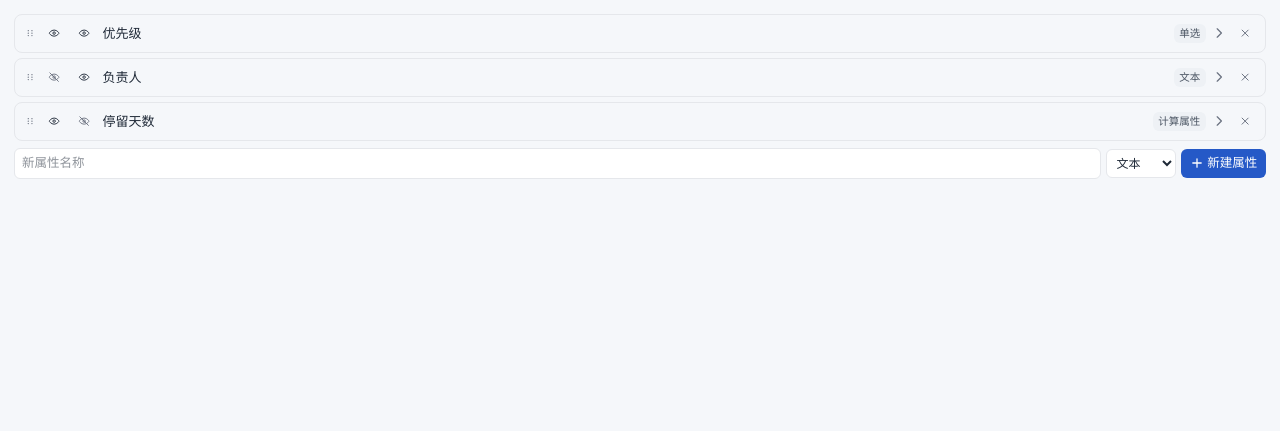
Test: AttributeManager › 展开计算属性时类型锁定，不可改类型
Click the text "停留天数" at [128, 121], box [102,113,154,129]
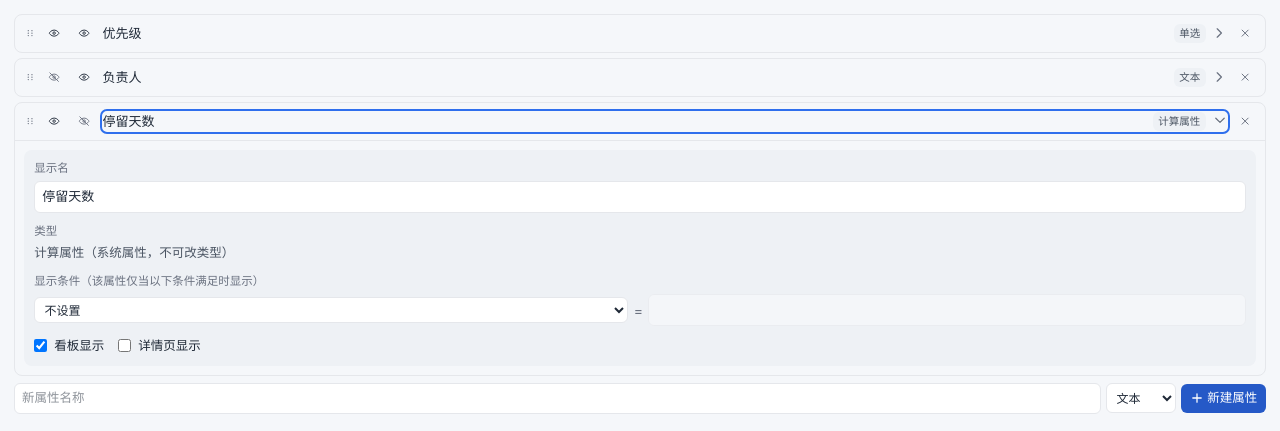
Now the text "计算属性（系统属性，不可改类型）" is shown, box [34,245,234,260]
